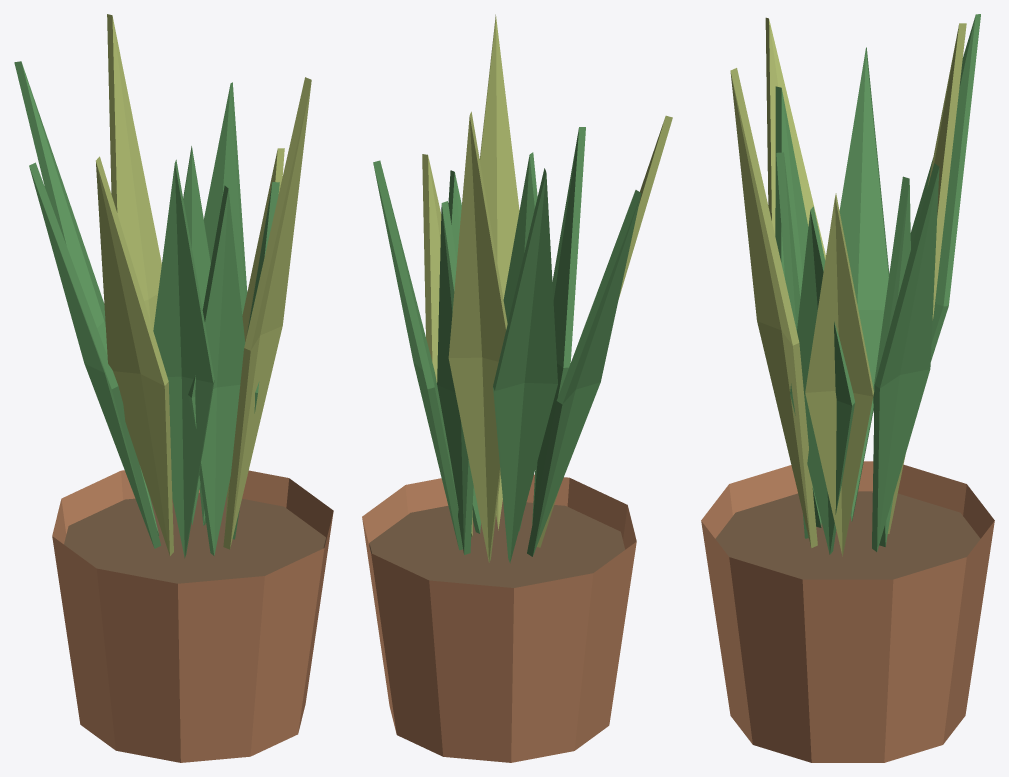
The model's file is plant_snake.glb.
3 views of the same model, side by side, from view 1: azimuth 30°, elevation 25°; view 2: azimuth 150°, elevation 25°; view 3: azimuth 270°, elevation 25° (orthographic). The views are drawn at different scales.
Parts seen in each view (by area): view 1: plant_snake; view 2: plant_snake; view 3: plant_snake.
Part boxes in pixels (x1=…): plant_snake: x1=14, y1=14, x2=333, y2=762; plant_snake: x1=362, y1=14, x2=672, y2=762; plant_snake: x1=701, y1=14, x2=994, y2=762.
Size of the model in its own units: 0.3289 by 0.7656 by 0.3.
